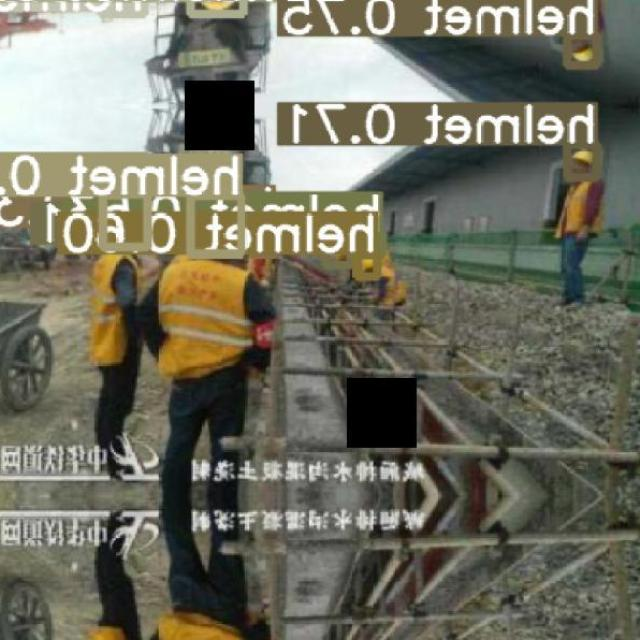helmet: (572, 150, 594, 164)
